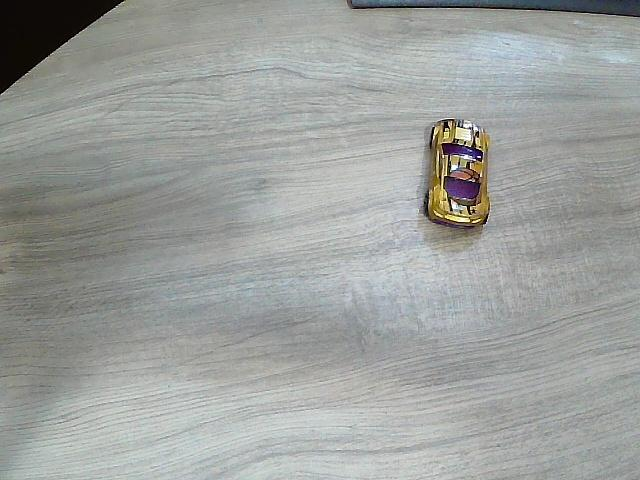Carro: (427, 120, 491, 228)
